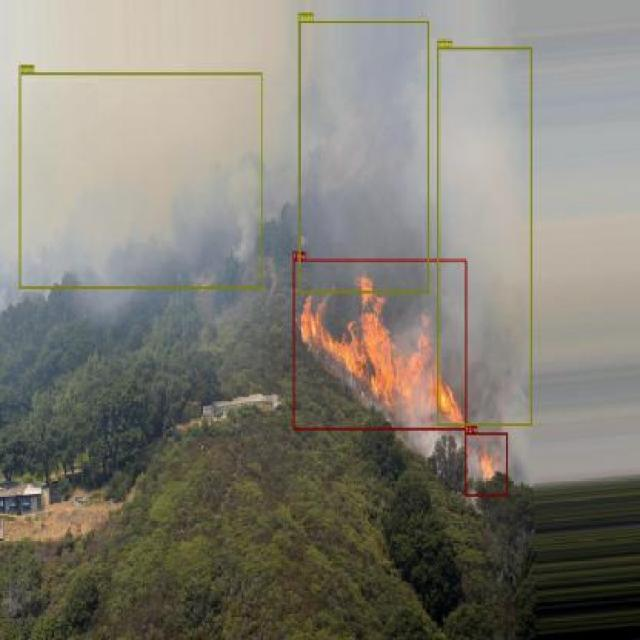CIV_Plane: (293, 259, 467, 430), (464, 432, 508, 497)
Fire: (293, 259, 467, 430), (464, 432, 508, 497)
Smoke: (0, 8, 198, 225), (437, 47, 532, 425), (329, 0, 396, 225)
